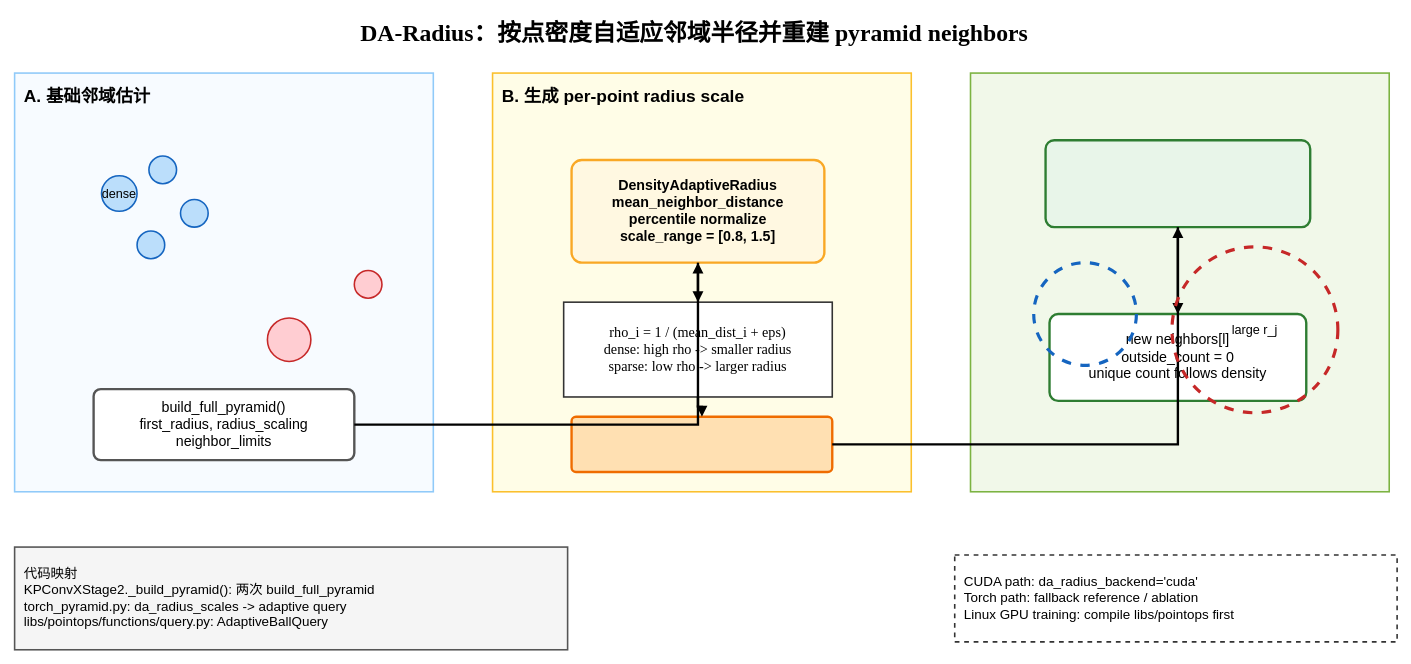
This 1411x664 diagram has some shape labels left out. Here are the shapes that lost their labels. From the top down, the box of each, then its label:
(1044, 139, 1311, 228): pointops.adaptive_ball_query nsample, min_radius, radius_i xyz, new_xyz, offset
(969, 72, 1390, 492): C. CUDA adaptive_ball_query
(1032, 261, 1138, 367): small r_i
(266, 317, 311, 362): sparse
(570, 415, 833, 473): radius_i = base_radius_l * scale_i shape: [N_l]
